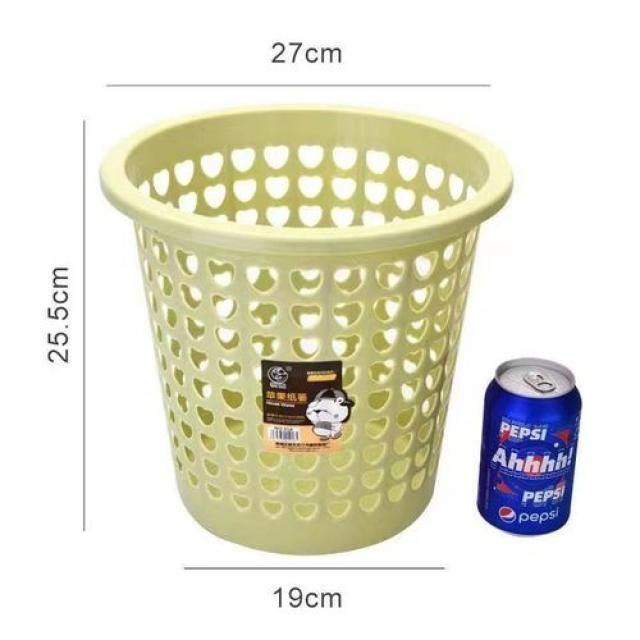Dustbin: (91, 99, 520, 559)
